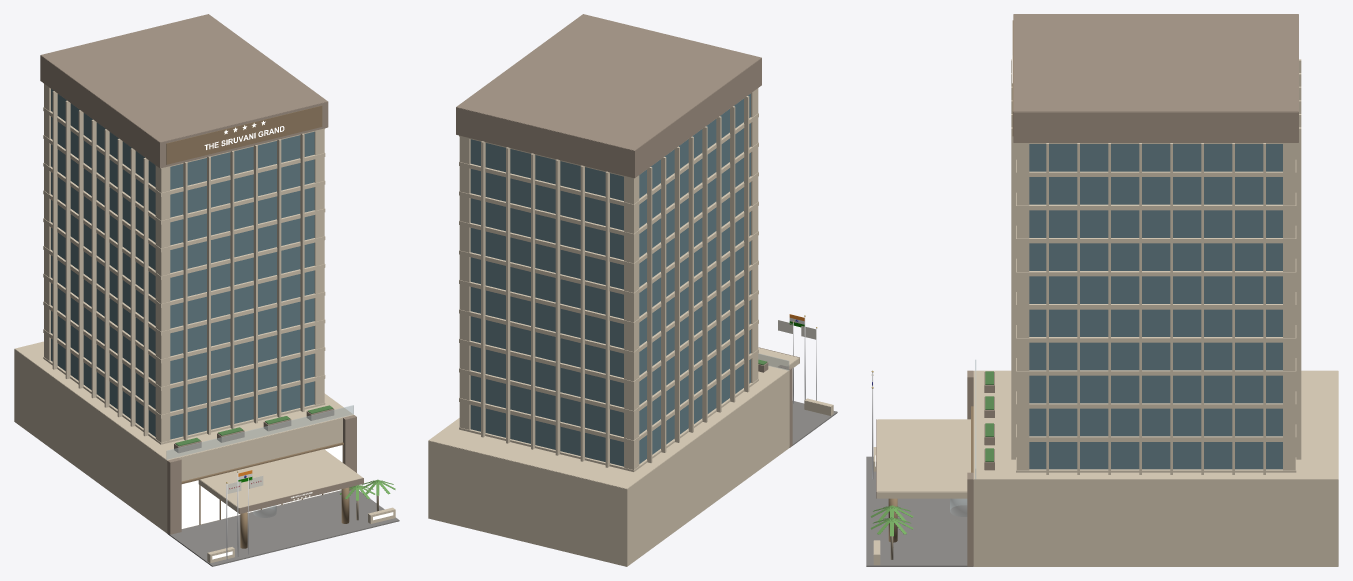
Rendered from hotel_grand_ao.glb.
3 views of the same model, side by side, from view 1: azimuth 30°, elevation 25°; view 2: azimuth 150°, elevation 25°; view 3: azimuth 270°, elevation 25° (orthographic). The views are drawn at different scales.
Visible parts, largest first — view 1: HotelGrand; view 2: HotelGrand; view 3: HotelGrand.
Boxes of the visible parts, box(x1,y1,x2,y2) form: HotelGrand: box(14, 14, 399, 566); HotelGrand: box(428, 14, 837, 566); HotelGrand: box(866, 14, 1338, 566).
Bounding box in the file's own units: 24.59 × 46.2 × 44.
